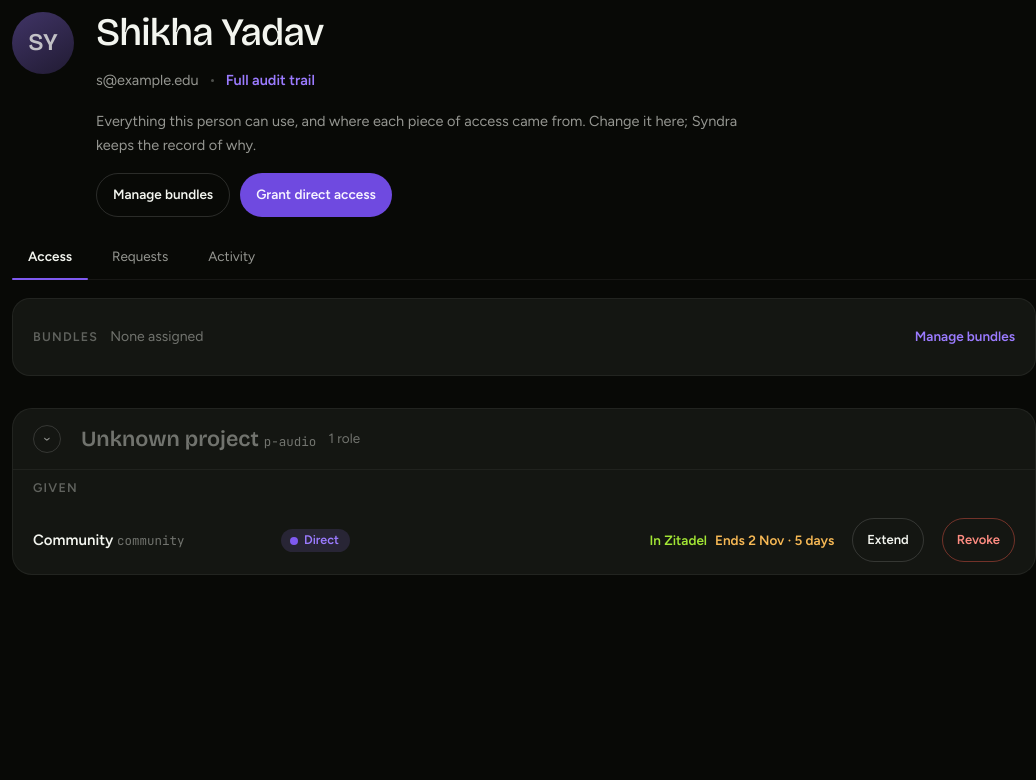
Test: a person's row that ends soon › says it will wait when the change queues
What coordinates should you click on to do the following:
click the button "Extend"
I would click on:
 (888, 540)
Its box is [852,518,924,562].
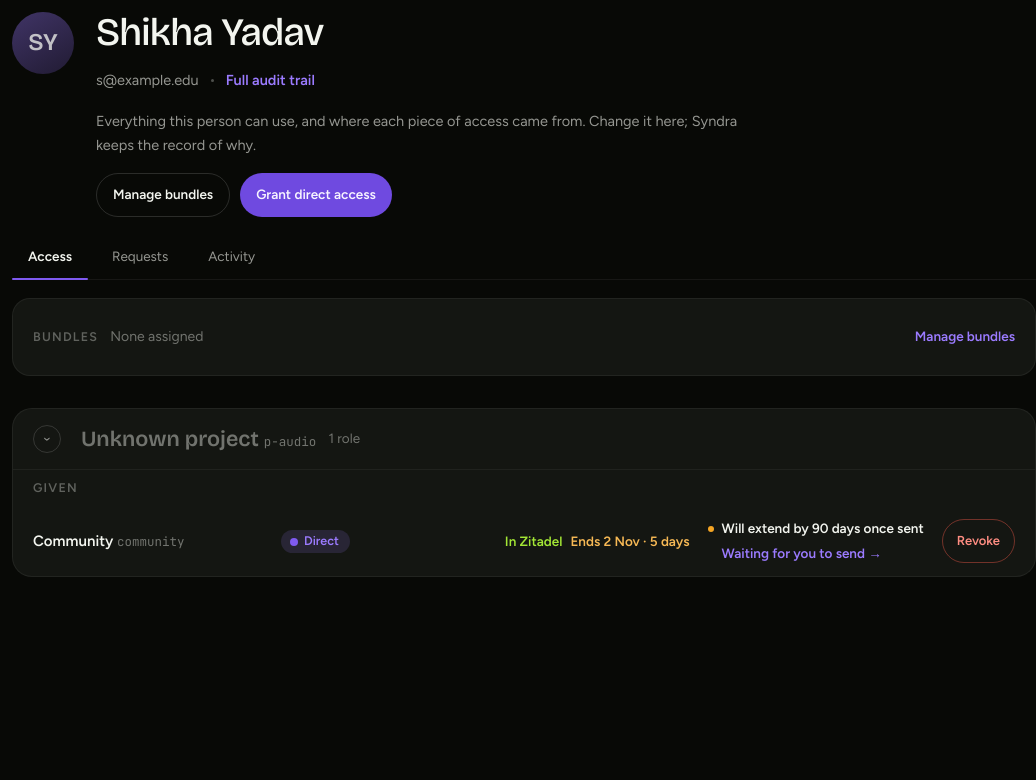
Expected: the text "Will extend by 90 days once sent" is shown, [708,518,924,539]
